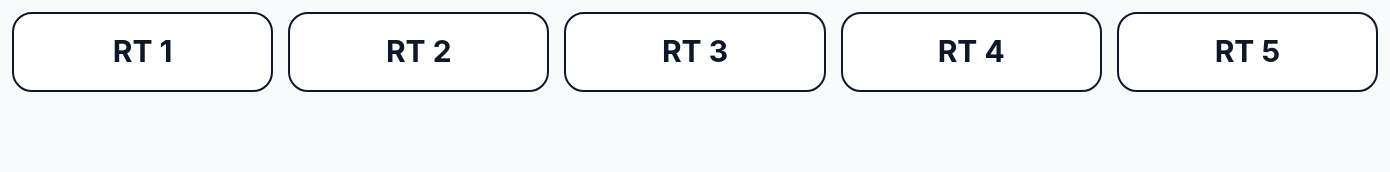
Test case: RtChips › menampilkan 5 pilihan RT dan memilih satu
The image size is (1390, 172).
Click the radio button labelled "RT 3": (695, 52) [564,12,826,92]
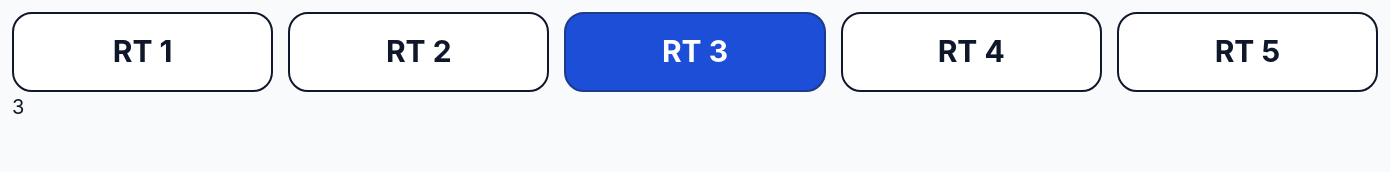
Expected: the text with test id "value" reads "3", [12,95,24,119]
